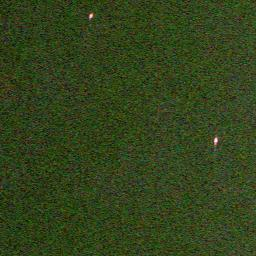Ship: (85, 10, 97, 22), (210, 134, 220, 147)
